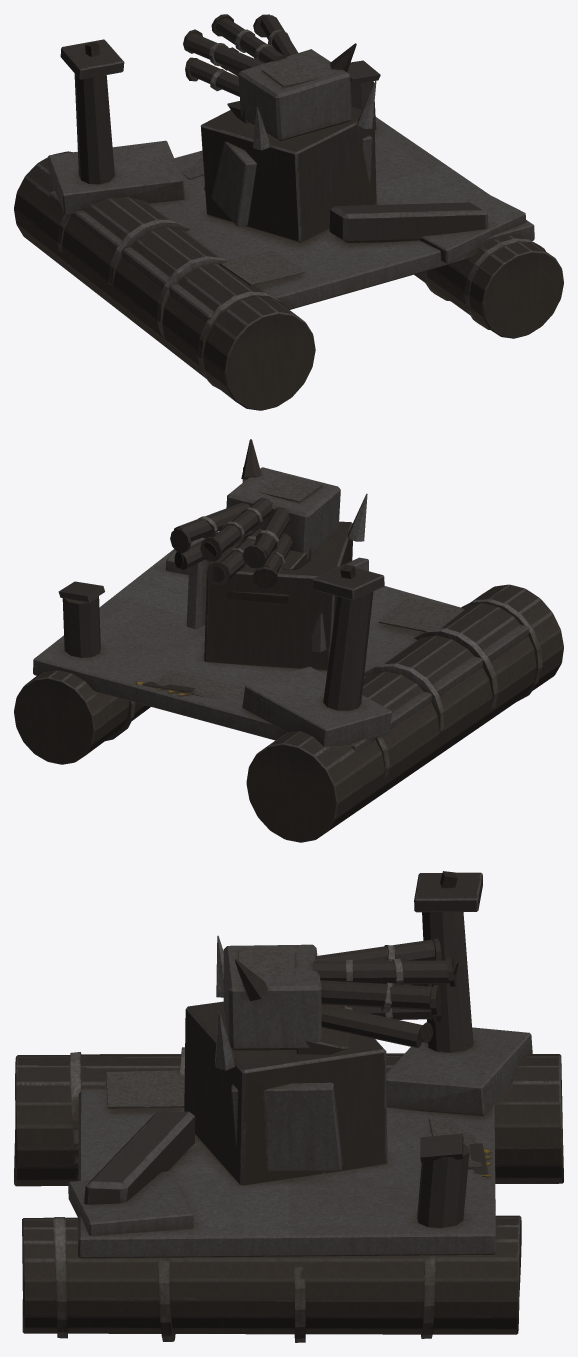
The model's file is chs_scylla_wreck.fbx.
The picture shows the model from 3 angles, top to bottom: view 1: azimuth 30°, elevation 25°; view 2: azimuth 150°, elevation 25°; view 3: azimuth 270°, elevation 25°; orthographic projection. The views are drawn at different scales.
Parts seen in each view (by area): view 1: base_bar, launcher_bar; view 2: base_bar, launcher_bar; view 3: base_bar, launcher_bar.
Boxes of the visible parts, left/top/right/bottom form: base_bar: left=14, top=39, right=563, bottom=410; launcher_bar: left=183, top=14, right=356, bottom=141; base_bar: left=14, top=467, right=563, bottom=842; launcher_bar: left=170, top=439, right=340, bottom=588; base_bar: left=14, top=871, right=563, bottom=1342; launcher_bar: left=223, top=938, right=458, bottom=1054.
Size of the model in its own units: 1942 by 1393 by 2120.
Materials: 2 (2 with a texture image).
